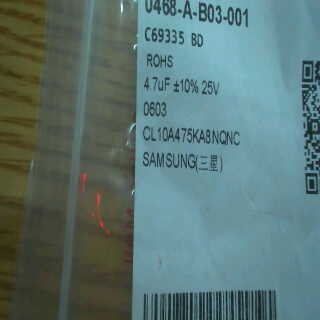4.7uF: (142, 74, 170, 94)
